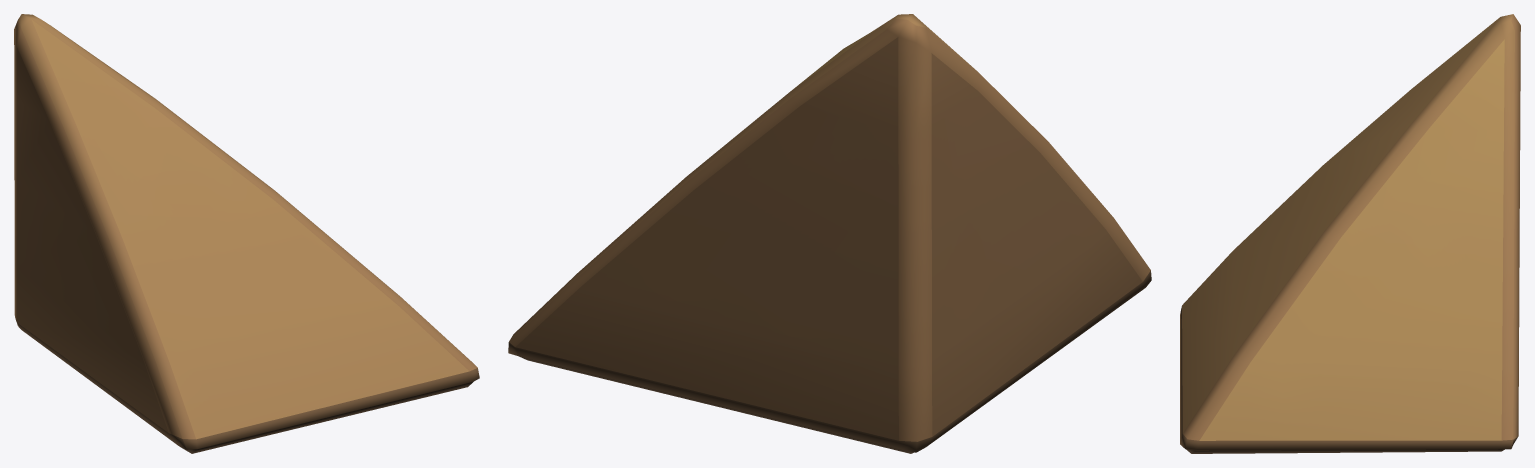
File: Sandstone_Slope_Outer.fbx
3 views of the same model, side by side, from view 1: azimuth 30°, elevation 25°; view 2: azimuth 150°, elevation 25°; view 3: azimuth 270°, elevation 25° (orthographic). The views are drawn at different scales.
Visible parts, largest first — view 1: Sandstone_Slope_Outer_LOD0; view 2: Sandstone_Slope_Outer_LOD0; view 3: Sandstone_Slope_Outer_LOD0.
Boxes of the visible parts, x1,y1,x2,y2 form: Sandstone_Slope_Outer_LOD0: [14, 14, 479, 453]; Sandstone_Slope_Outer_LOD0: [508, 14, 1151, 453]; Sandstone_Slope_Outer_LOD0: [1180, 14, 1520, 453].
Size of what is drawn, in the model's own units: 1.03 by 1.04 by 1.04.
